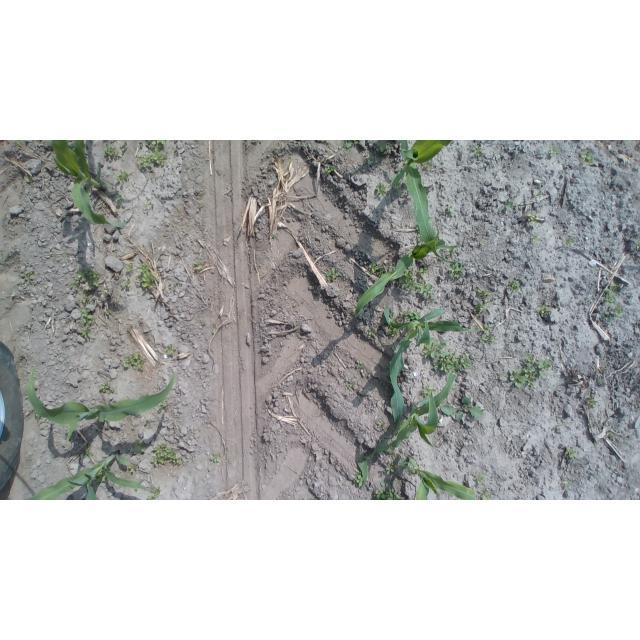Maize: (358, 370, 457, 490), (26, 365, 176, 442), (383, 306, 479, 426), (355, 229, 462, 315), (392, 141, 465, 266), (51, 140, 127, 229), (25, 451, 148, 500), (395, 453, 478, 500)
Weeds: (423, 338, 473, 375), (508, 354, 552, 389), (399, 267, 437, 304), (441, 397, 484, 421), (152, 444, 183, 467), (78, 308, 97, 341), (141, 147, 167, 169), (136, 263, 157, 289), (75, 268, 101, 288), (374, 481, 401, 500), (103, 141, 127, 160), (124, 353, 145, 371), (603, 284, 618, 306), (480, 324, 496, 344), (449, 263, 465, 282), (129, 438, 147, 452), (377, 140, 392, 156), (100, 380, 115, 396), (369, 263, 385, 278), (476, 287, 491, 303), (116, 169, 130, 185), (326, 267, 340, 282), (474, 473, 488, 488), (375, 180, 387, 197), (404, 309, 422, 320), (147, 486, 161, 500), (508, 279, 521, 293), (610, 304, 624, 317), (353, 471, 364, 487), (581, 152, 594, 165), (538, 305, 551, 318), (341, 140, 353, 154), (22, 271, 34, 284), (443, 205, 456, 217), (165, 344, 177, 356), (424, 384, 437, 395), (145, 141, 165, 148), (390, 312, 401, 324), (83, 446, 93, 459), (473, 146, 484, 157), (389, 326, 400, 337), (96, 472, 107, 483), (377, 419, 387, 431), (324, 163, 334, 175), (121, 277, 132, 287), (505, 199, 516, 209), (527, 213, 537, 224), (481, 490, 492, 500), (566, 448, 577, 458), (394, 180, 403, 192), (587, 395, 596, 407), (158, 400, 166, 413), (549, 145, 559, 155), (475, 304, 485, 314), (446, 248, 457, 257), (68, 284, 78, 293), (369, 328, 378, 338), (129, 464, 139, 473), (15, 141, 23, 152), (347, 380, 356, 389), (115, 195, 124, 204), (531, 236, 540, 245), (211, 454, 220, 463), (565, 236, 575, 244), (82, 292, 89, 303), (193, 260, 201, 269), (370, 156, 378, 165), (424, 160, 432, 169), (386, 467, 395, 475), (24, 176, 32, 184), (272, 232, 280, 240), (126, 263, 133, 272), (357, 360, 364, 368), (189, 164, 196, 172), (389, 446, 395, 455), (34, 411, 40, 420), (145, 199, 151, 207), (537, 192, 543, 199), (610, 431, 615, 439), (480, 240, 485, 246), (105, 309, 110, 315), (636, 242, 640, 249), (564, 484, 569, 489), (428, 217, 433, 222), (200, 204, 205, 209), (354, 140, 359, 144), (557, 424, 561, 429), (77, 300, 80, 305)
